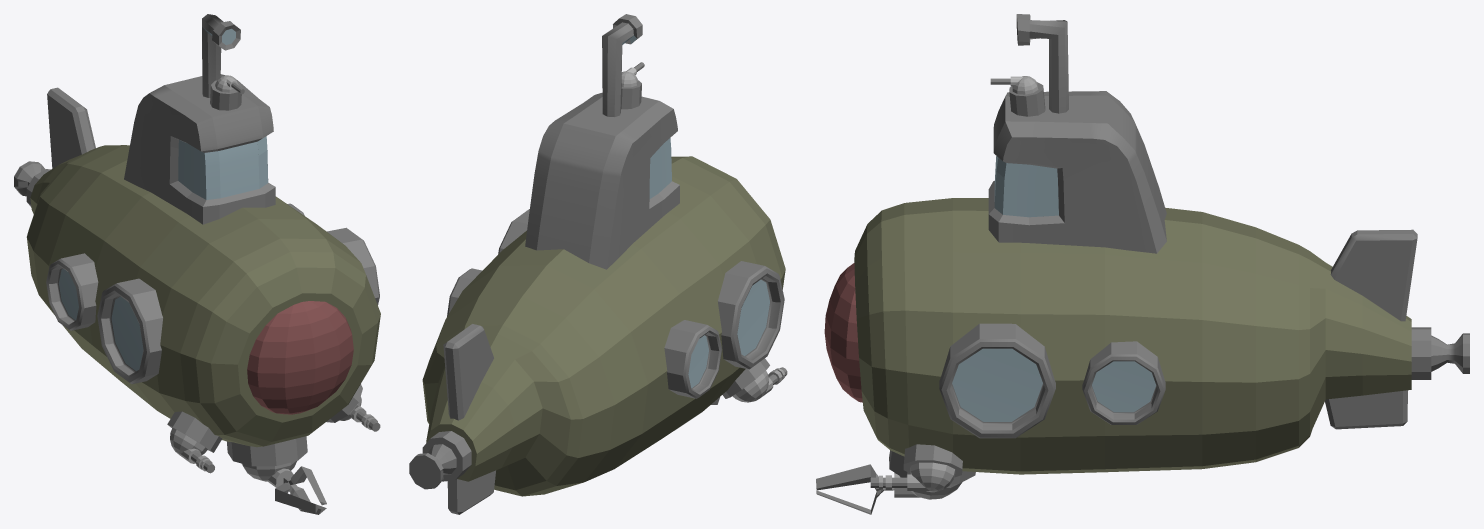
The model's file is Submarine with Grapple and Gun Upgrade 1.fbx.
3 views of the same model, side by side, from view 1: azimuth 30°, elevation 25°; view 2: azimuth 150°, elevation 25°; view 3: azimuth 270°, elevation 25° (orthographic). The views are drawn at different scales.
Parts seen in each view (by area): view 1: Starting_Submarine, Grapple_upgrade, Gun_Upgrade_1; view 2: Starting_Submarine, Gun_Upgrade_1; view 3: Starting_Submarine, Gun_Upgrade_1, Grapple_upgrade.
Boxes of the visible parts, box(x1,y1,x2,y2) form: Starting_Submarine: box(14, 14, 380, 447); Grapple_upgrade: box(227, 436, 326, 514); Gun_Upgrade_1: box(167, 384, 380, 473); Starting_Submarine: box(409, 14, 785, 514); Gun_Upgrade_1: box(722, 358, 787, 402); Starting_Submarine: box(824, 14, 1469, 474); Gun_Upgrade_1: box(870, 444, 962, 492); Grapple_upgrade: box(816, 450, 975, 514).
Bounding box in the file's own units: 4.28 × 7.55 × 9.03.
